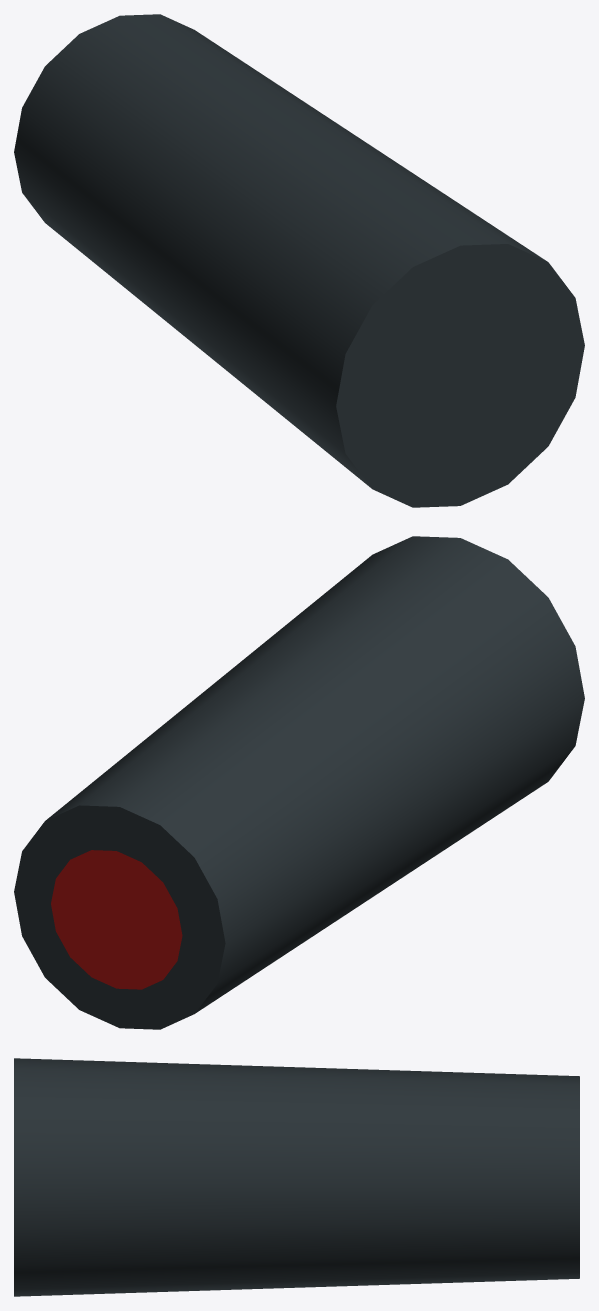
File: cl-er-small-laser-round.glb
3 renders of one model, top to bottom at view 1: azimuth 30°, elevation 25°; view 2: azimuth 150°, elevation 25°; view 3: azimuth 270°, elevation 25°, orthographic. The views are drawn at different scales.
Parts seen in each view (by area): view 1: mount; view 2: mount; view 3: mount.
Part boxes in pixels (<box>): mount: <box>14,14,584,507</box>; mount: <box>14,536,584,1029</box>; mount: <box>14,1058,579,1296</box>.
Bounding box in the file's own units: 1.4 × 1.4 × 3.35.
